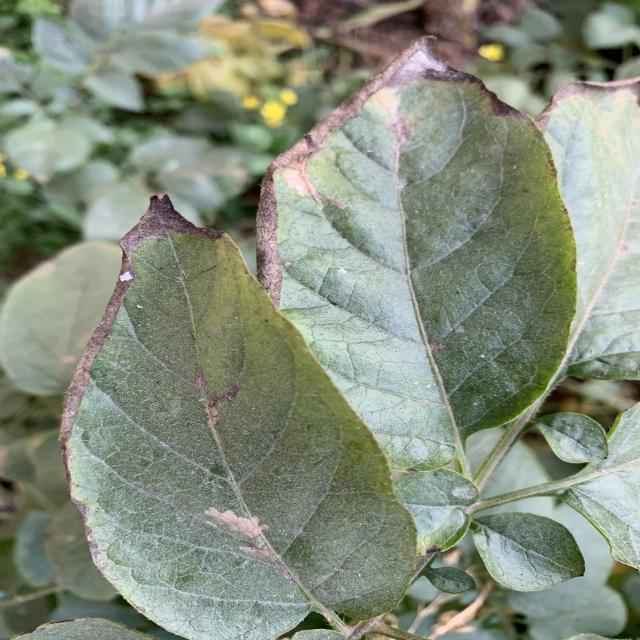lateblight: (285, 36, 433, 164), (60, 251, 135, 449), (375, 38, 528, 122), (257, 135, 315, 306), (120, 194, 223, 271), (203, 508, 293, 581)
